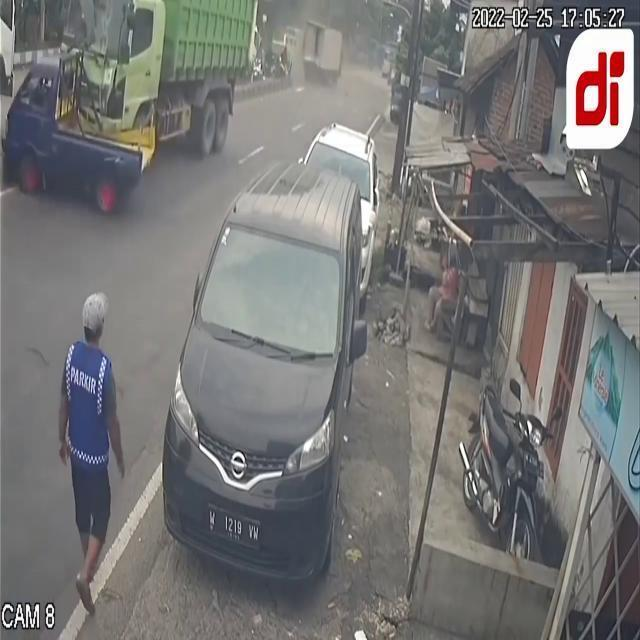accident: (0, 1, 250, 216)
non-accident: (164, 120, 380, 592)
